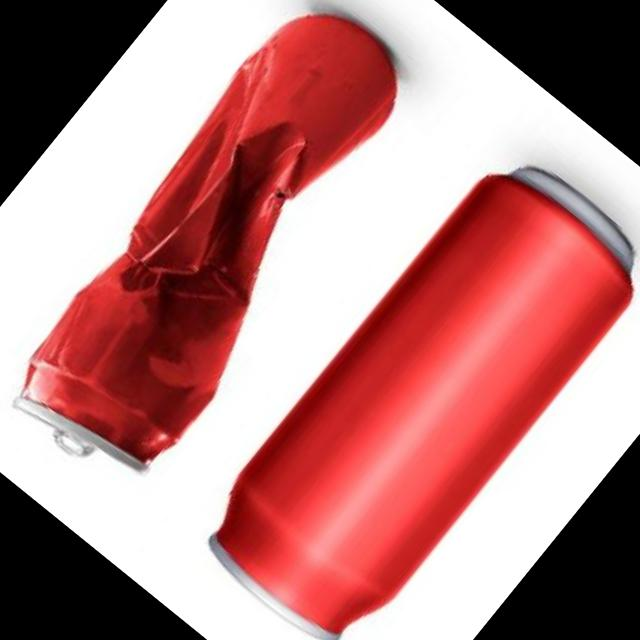Kaleng: (0, 0, 455, 507), (183, 138, 640, 640)
